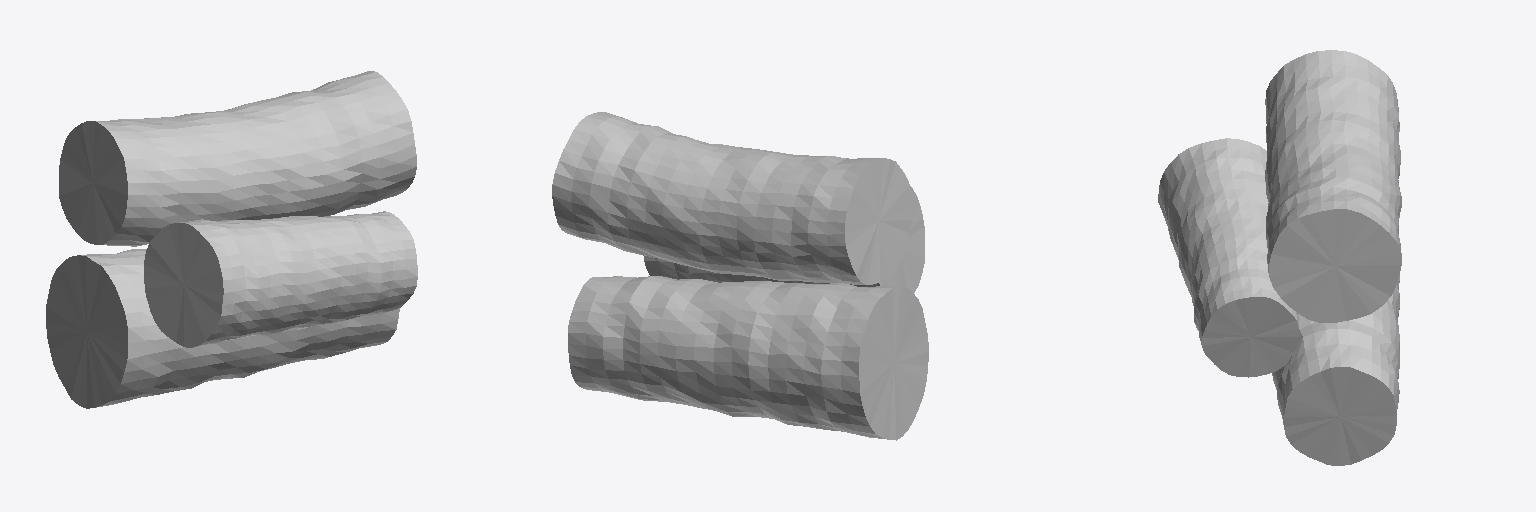
The model's file is firewood.obj.
3 views of the same model, side by side, from view 1: azimuth 30°, elevation 25°; view 2: azimuth 150°, elevation 25°; view 3: azimuth 270°, elevation 25° (orthographic).
Parts seen in each view (by area): view 1: Cylinder02, Cylinder03, Cylinder01; view 2: Cylinder01, Cylinder02, Cylinder03; view 3: Cylinder02, Cylinder03, Cylinder01.
Part boxes in pixels (x1,y1,x2,y2): Cylinder02: (59, 71, 416, 246); Cylinder03: (144, 211, 417, 347); Cylinder01: (46, 249, 399, 408); Cylinder01: (568, 276, 928, 440); Cylinder02: (552, 112, 912, 284); Cylinder03: (643, 186, 924, 292); Cylinder02: (1265, 50, 1401, 322); Cylinder03: (1158, 138, 1299, 377); Cylinder01: (1272, 275, 1399, 465).
Size of the model in its own units: 595 by 519 by 401.